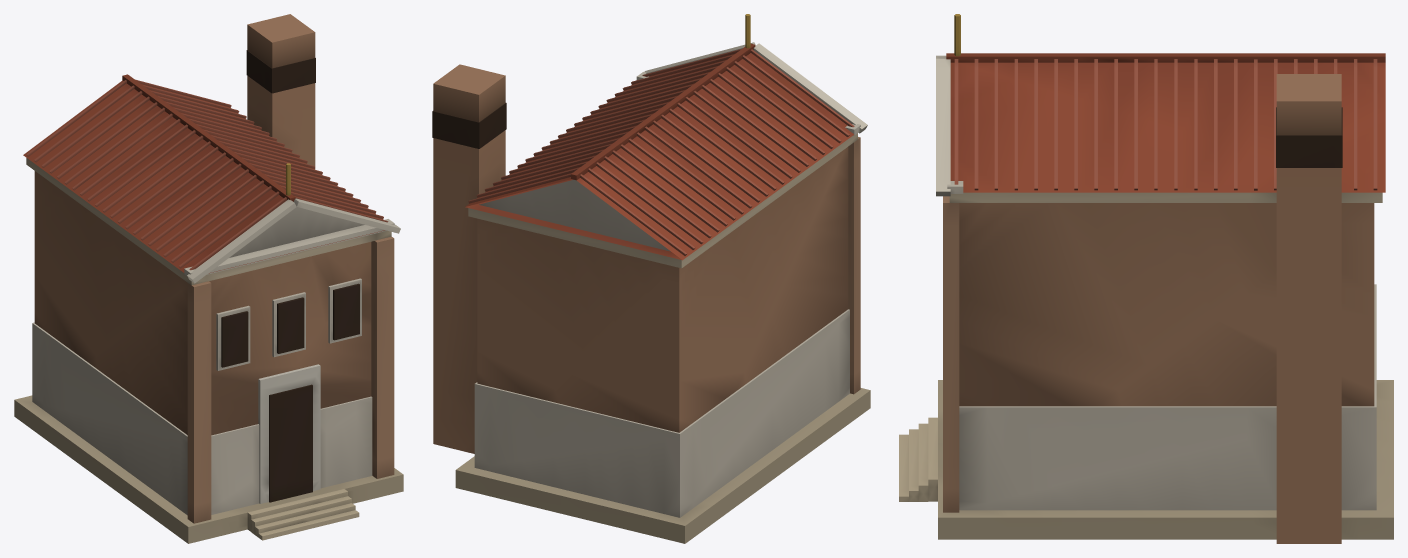
Rendered from curia-church.glb.
3 renders of one model, left to right at view 1: azimuth 30°, elevation 25°; view 2: azimuth 150°, elevation 25°; view 3: azimuth 270°, elevation 25°, orthographic. The views are drawn at different scales.
Parts seen in each view (by area): view 1: p1_walls, p2_church, p0_podium; view 2: p1_walls, p2_church, p0_podium; view 3: p1_walls, p2_church, p0_podium.
Boxes of the visible parts, box(x1,y1,x2,y2) form: p1_walls: box(26, 158, 394, 523); p2_church: box(23, 14, 400, 283); p0_podium: box(14, 395, 403, 543); p1_walls: box(468, 133, 860, 517); p2_church: box(432, 14, 867, 453); p0_podium: box(455, 388, 870, 543); p1_walls: box(943, 192, 1382, 512); p2_church: box(936, 14, 1385, 543); p0_podium: box(899, 380, 1393, 539).
Size of the model in its own units: 23.85 by 31.5 by 30.4.
